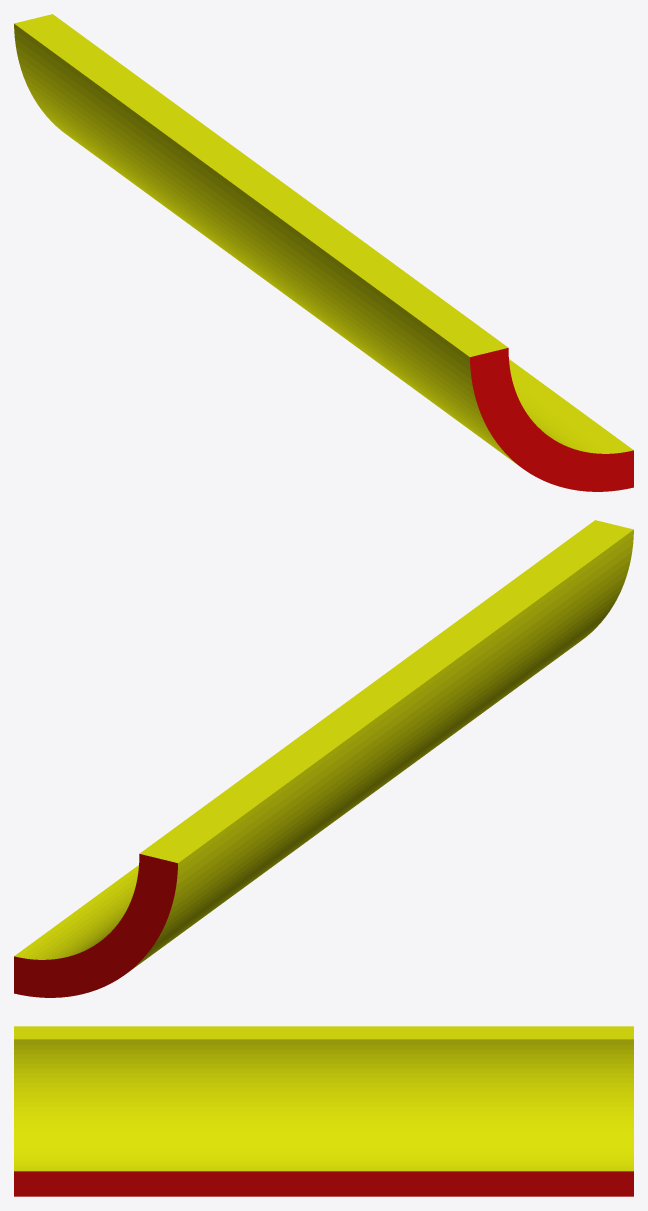
File: SM_WaterShape_SkateRamp_001.fbx
3 renders of one model, top to bottom at view 1: azimuth 30°, elevation 25°; view 2: azimuth 150°, elevation 25°; view 3: azimuth 270°, elevation 25°, orthographic. The views are drawn at different scales.
Parts seen in each view (by area): view 1: Cube.010; view 2: Cube.010; view 3: Cube.010.
Boxes of the visible parts, bbox=[...] form: Cube.010: bbox=[14, 14, 633, 491]; Cube.010: bbox=[14, 520, 633, 997]; Cube.010: bbox=[14, 1026, 633, 1196].
Size of the model in its own units: 313 by 311 by 1508.
